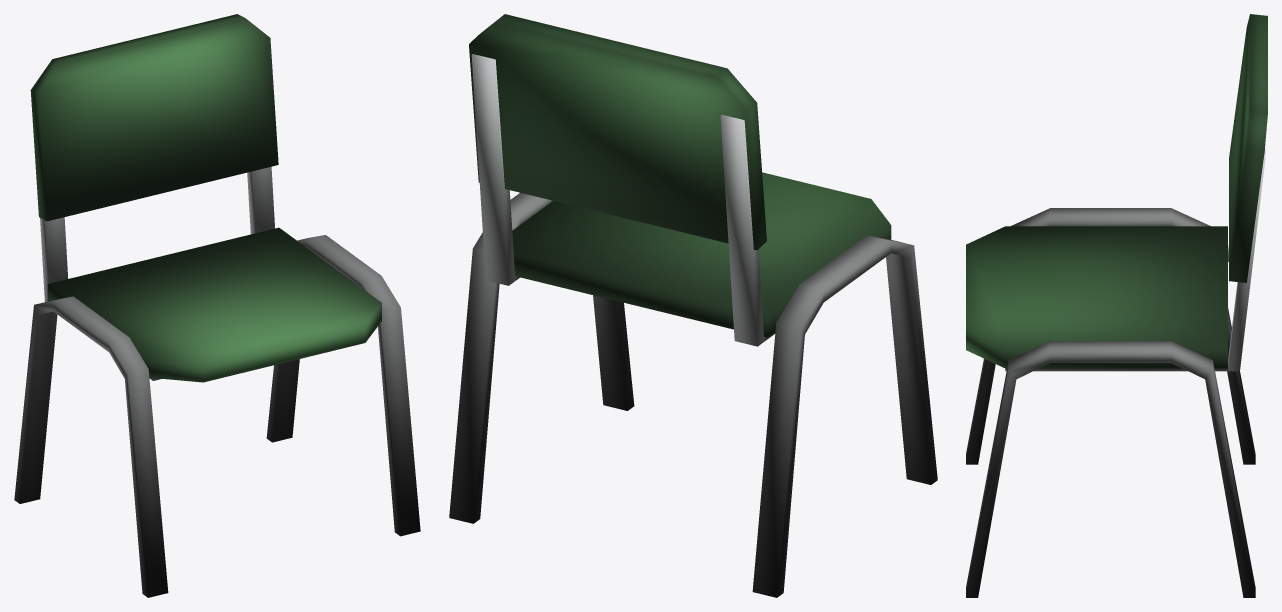
The model's file is Chair_Conference_Green.fbx.
3 views of the same model, side by side, from view 1: azimuth 30°, elevation 25°; view 2: azimuth 150°, elevation 25°; view 3: azimuth 270°, elevation 25° (orthographic). The views are drawn at different scales.
Parts seen in each view (by area): view 1: Chair_Conference_Green; view 2: Chair_Conference_Green; view 3: Chair_Conference_Green.
Boxes of the visible parts, x1=… form: Chair_Conference_Green: x1=14, y1=14, x2=420, y2=597; Chair_Conference_Green: x1=449, y1=14, x2=937, y2=597; Chair_Conference_Green: x1=966, y1=14, x2=1267, y2=597.
Size of the model in its own units: 54.47 by 81.7 by 48.28.
